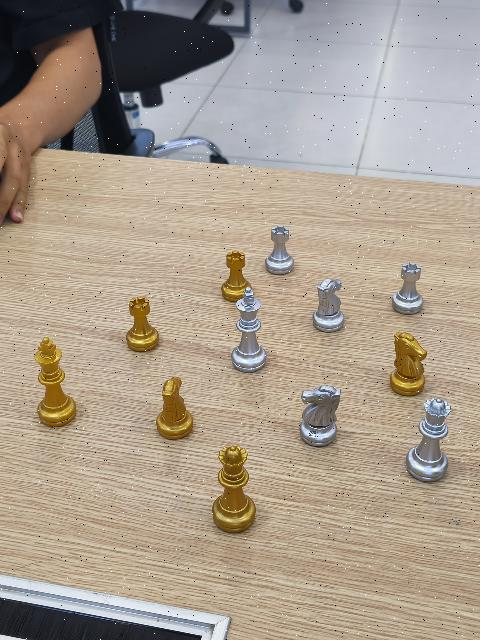black_king: (32, 335, 78, 429)
black_knight: (387, 331, 428, 398), (154, 376, 196, 441)
black_queen: (210, 446, 258, 535)
black_rook: (123, 295, 161, 355), (218, 250, 247, 298)
white_king: (231, 288, 267, 373)
white_knight: (296, 383, 344, 450), (310, 277, 347, 334)
white_queen: (405, 398, 454, 485)
white_rook: (390, 261, 425, 318), (263, 225, 295, 277)
